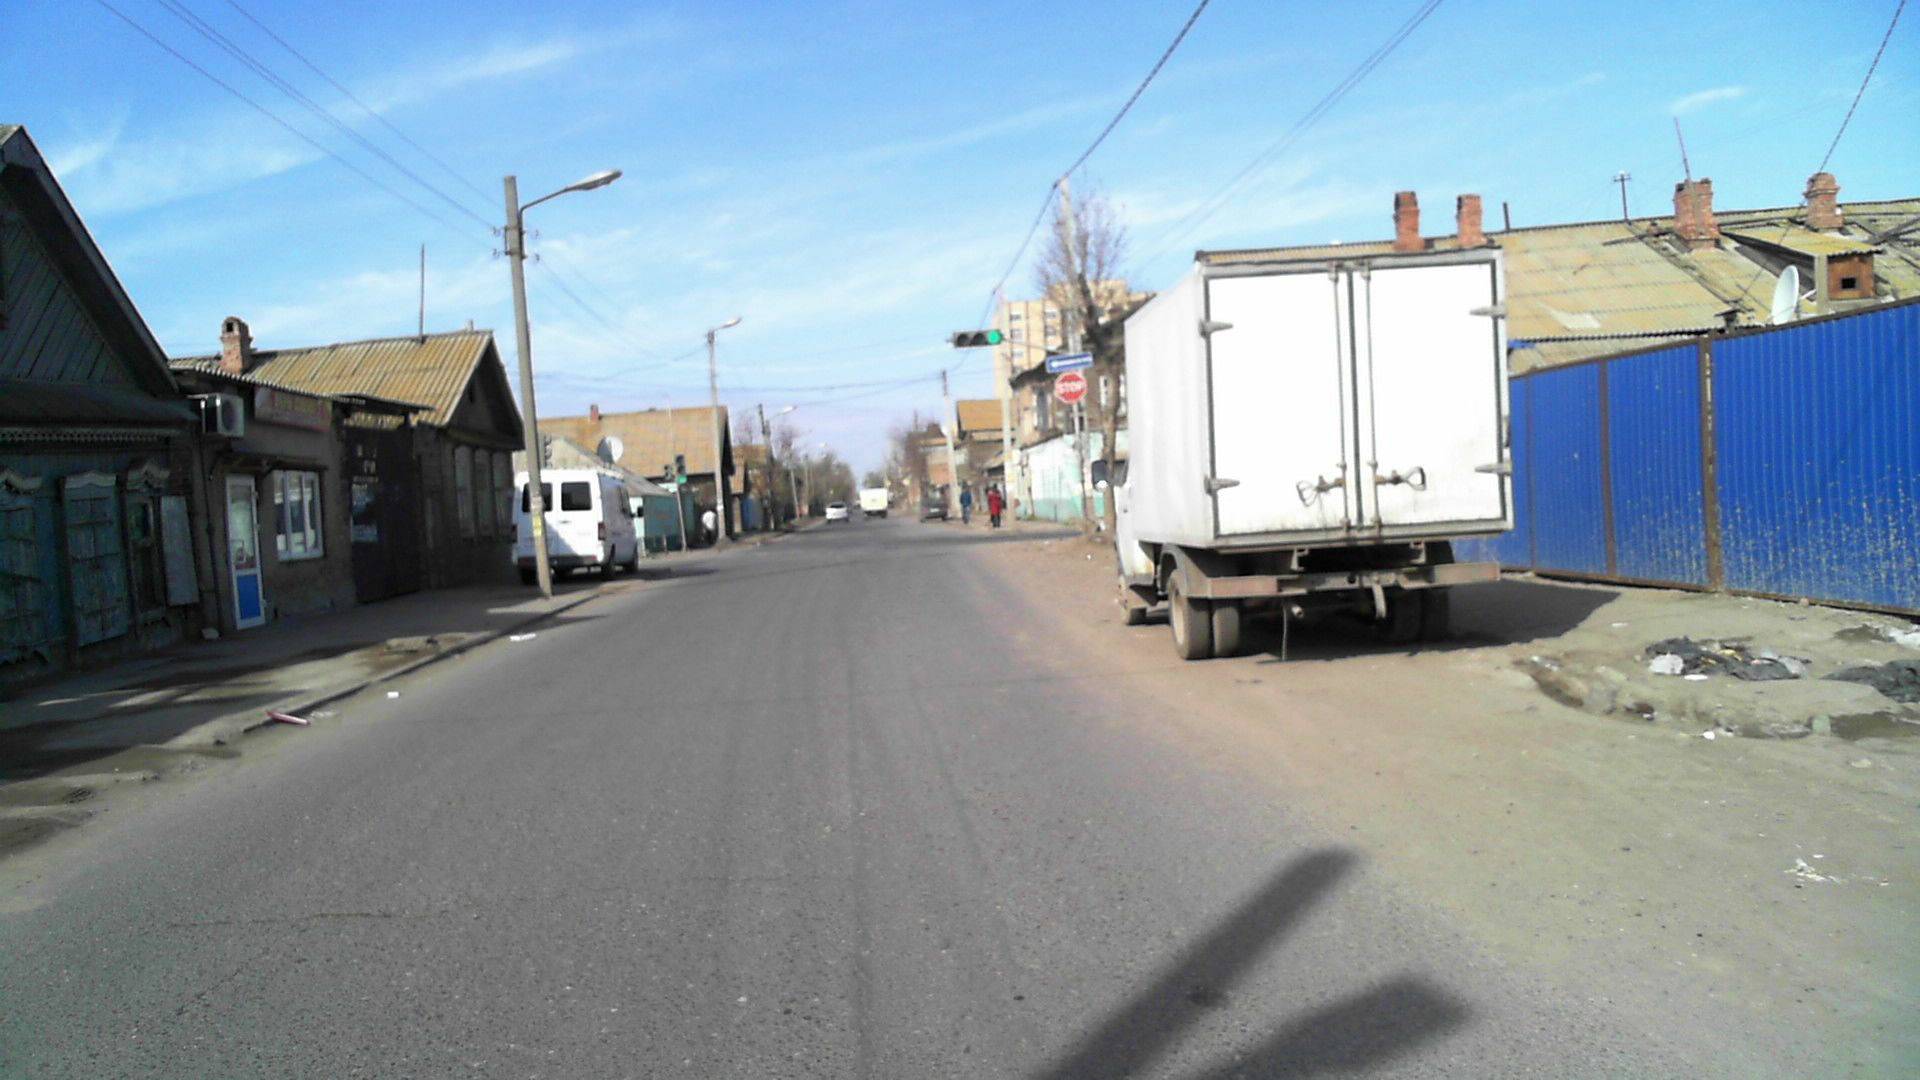One-Way Traffic: (1047, 353, 1093, 371)
